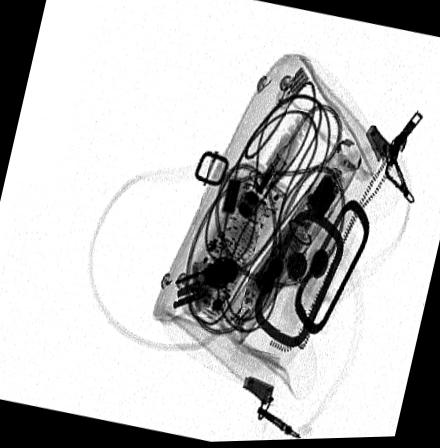Baton: (218, 138, 363, 346)
